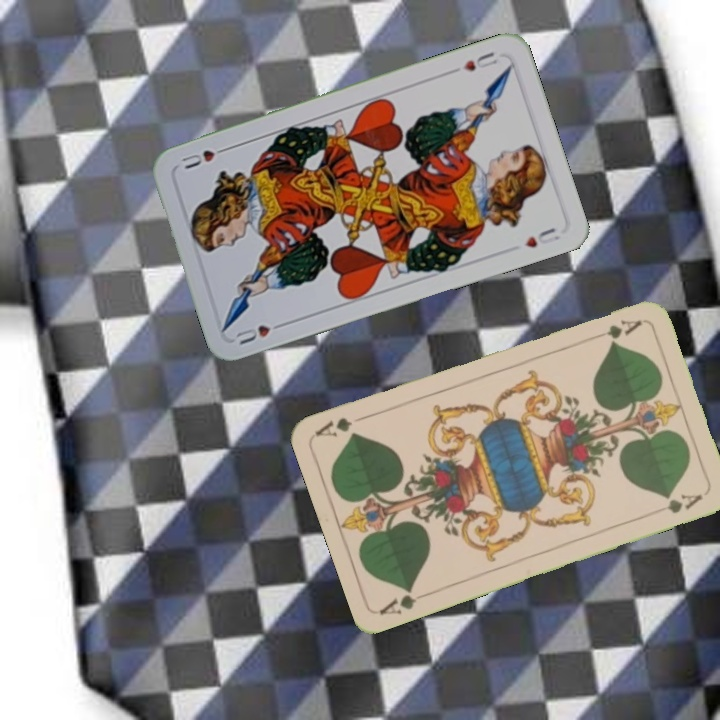GA: (588, 315, 645, 343), (376, 583, 419, 618)
HU: (232, 318, 289, 347), (459, 47, 501, 74)
